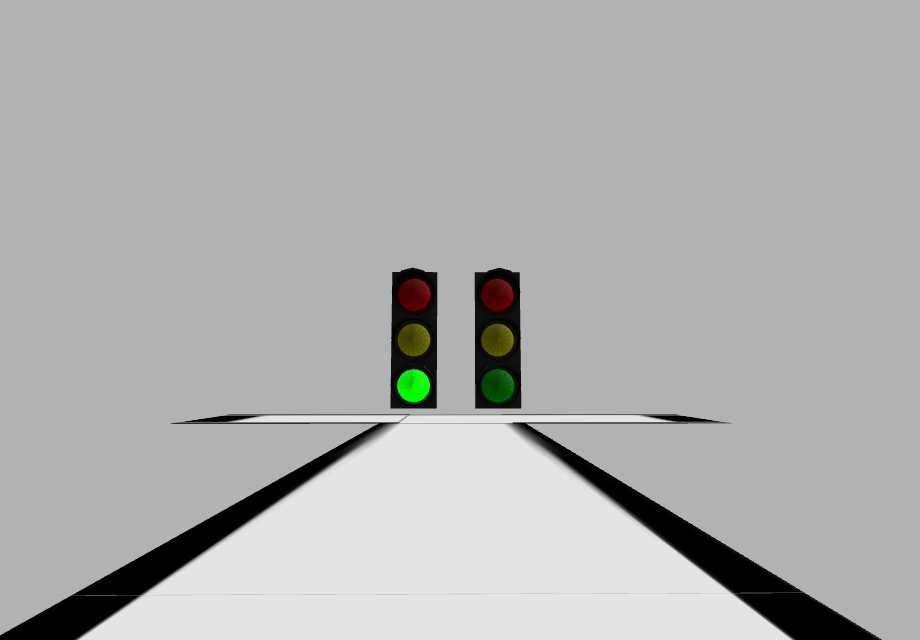green_off: (479, 368, 517, 406)
green_on: (397, 366, 429, 405)
